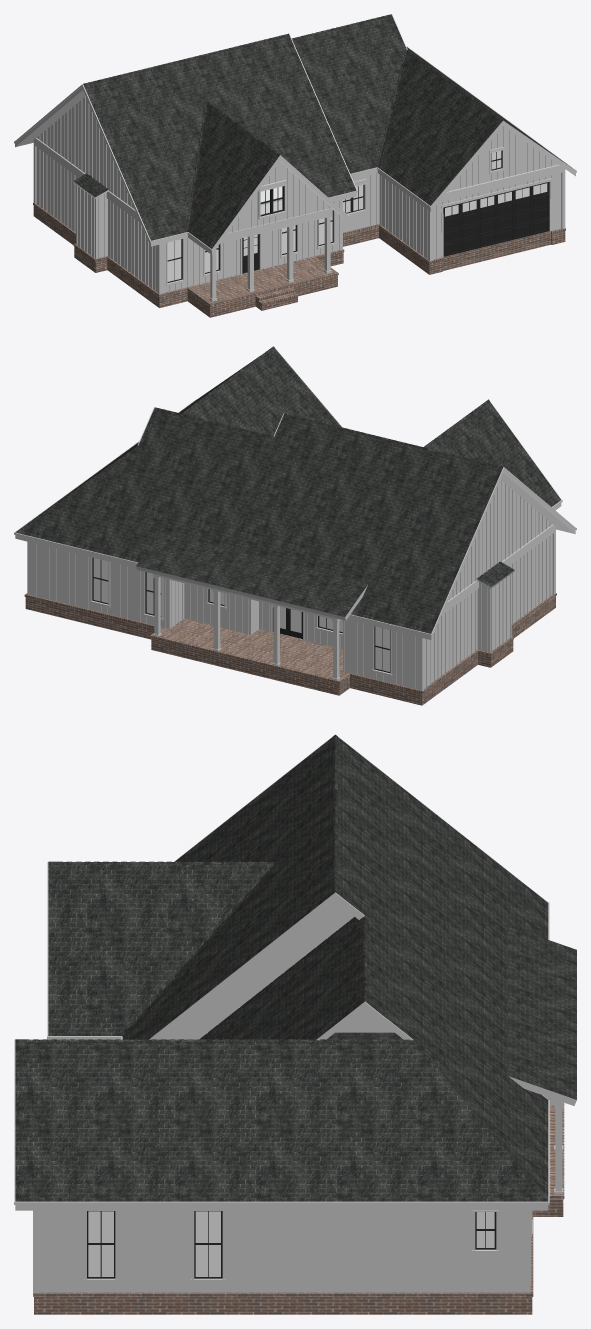
Rendered from casa3.glb.
3 renders of one model, top to bottom at view 1: azimuth 30°, elevation 25°; view 2: azimuth 150°, elevation 25°; view 3: azimuth 270°, elevation 25°, orthographic. The views are drawn at different scales.
Visible parts, largest first — view 1: Object_83, Object_9, Object_5, Object_26, Object_27; view 2: Object_83, Object_9, Object_5, Object_27, Object_26; view 3: Object_83, Object_9, Object_5, Object_27, Object_26.
Part boxes in pixels (x1,y1,x2,y2): Object_83: (73, 14, 571, 248); Object_9: (14, 14, 576, 301); Object_5: (33, 202, 565, 317); Object_26: (167, 150, 549, 282); Object_27: (167, 151, 547, 281); Object_83: (15, 346, 560, 633); Object_9: (14, 346, 576, 691); Object_5: (24, 593, 556, 705); Object_27: (93, 558, 389, 671); Object_26: (92, 557, 390, 673); Object_83: (15, 734, 576, 1201); Object_9: (14, 734, 576, 1293); Object_5: (33, 1102, 564, 1314); Object_27: (88, 1211, 494, 1276); Object_26: (87, 1211, 496, 1278).
Bounding box in the file's own units: 19.5 × 8.64 × 15.47.
9 materials, 3 textured.
